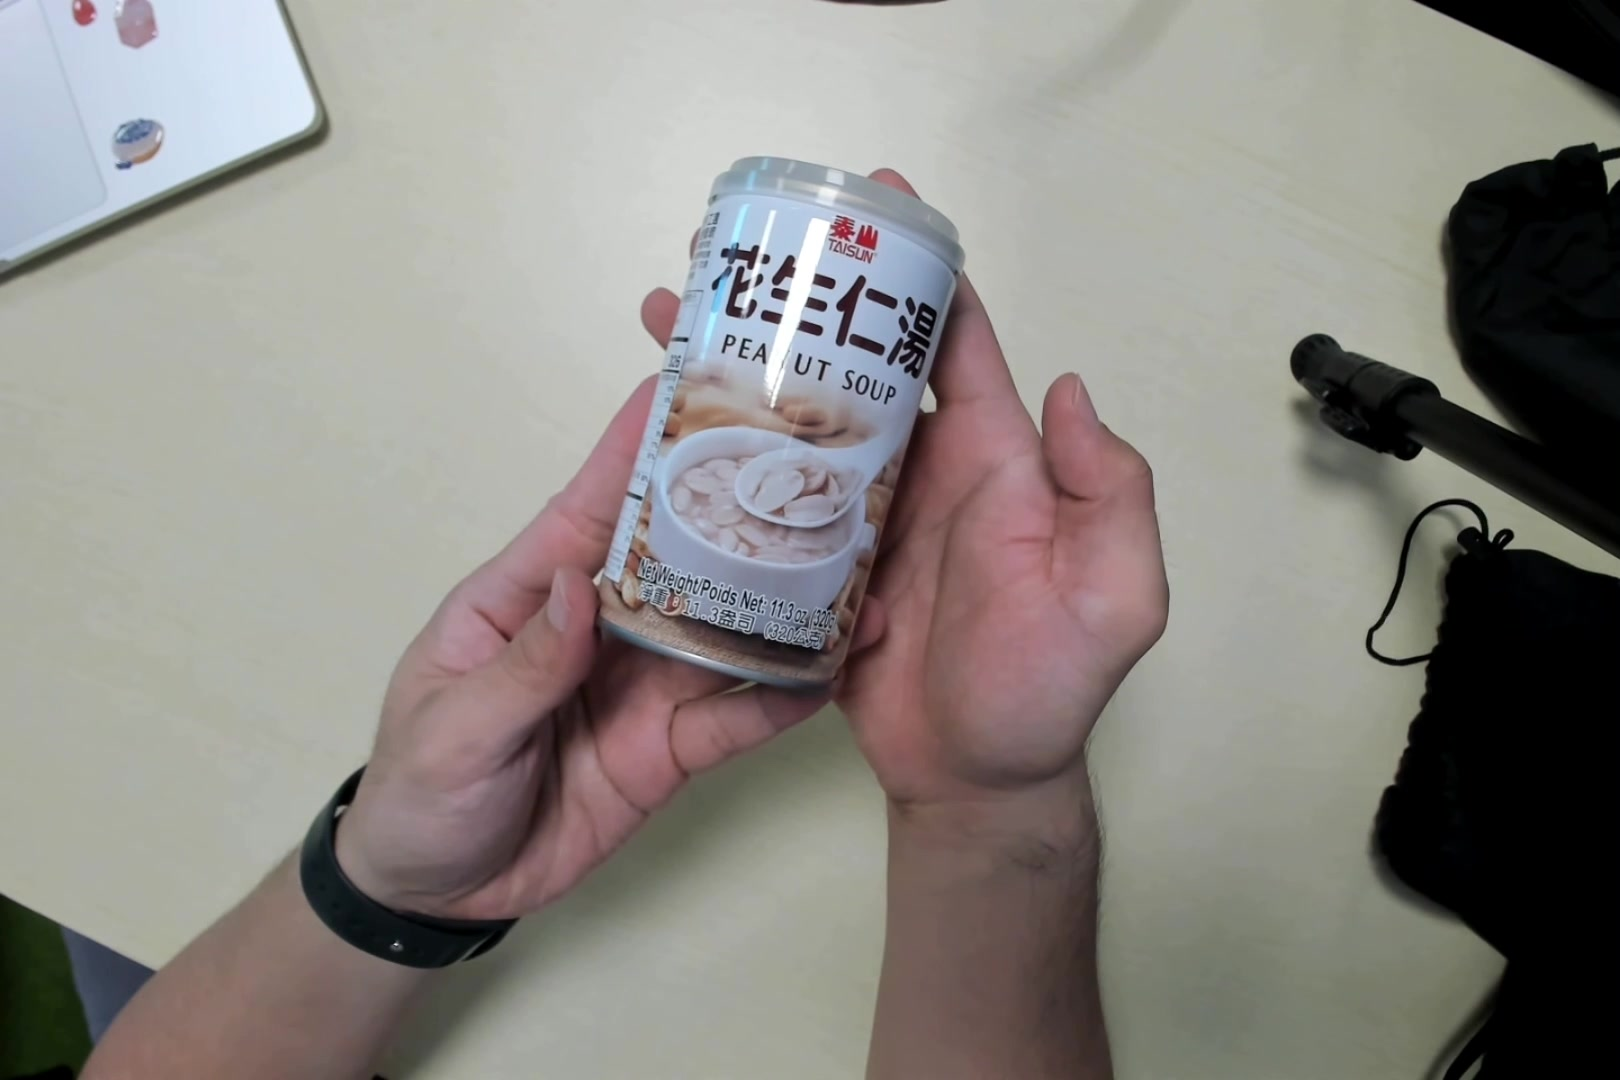InstantMeals_300-399g_NonHalal_NonHealthy: (582, 148, 965, 683)
